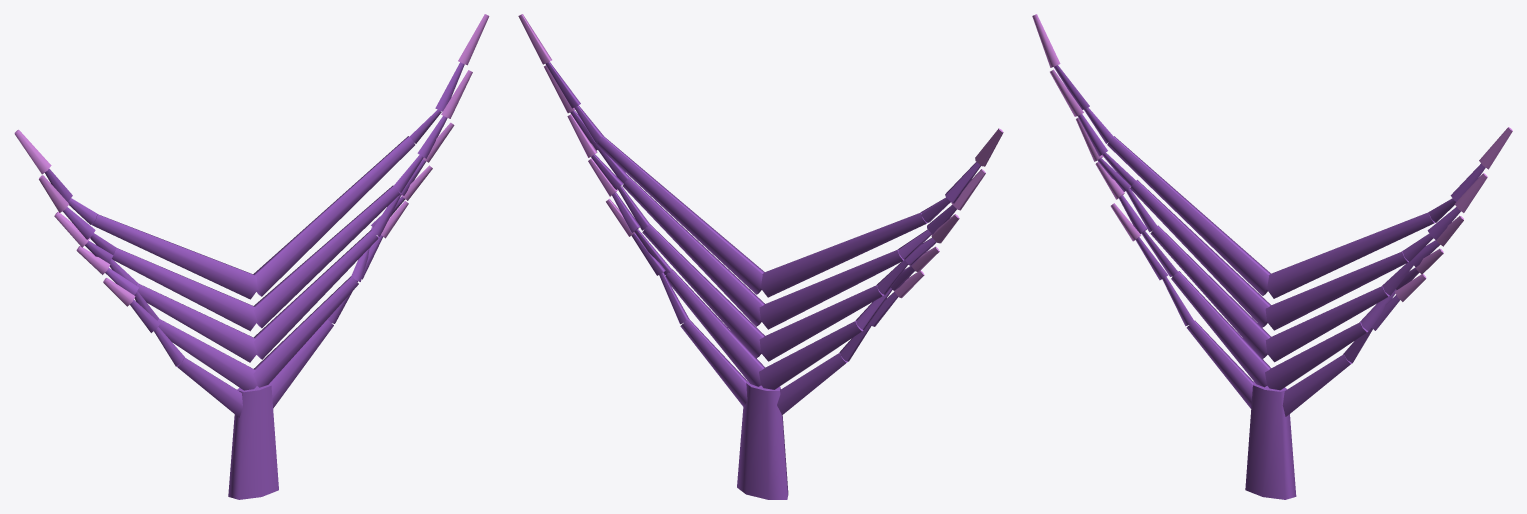
The model's file is coral-sea-fan.glb.
3 renders of one model, left to right at view 1: azimuth 30°, elevation 25°; view 2: azimuth 150°, elevation 25°; view 3: azimuth 330°, elevation 25°, orthographic.
Size of the model in its own units: 3.21 by 2.69 by 0.157.
